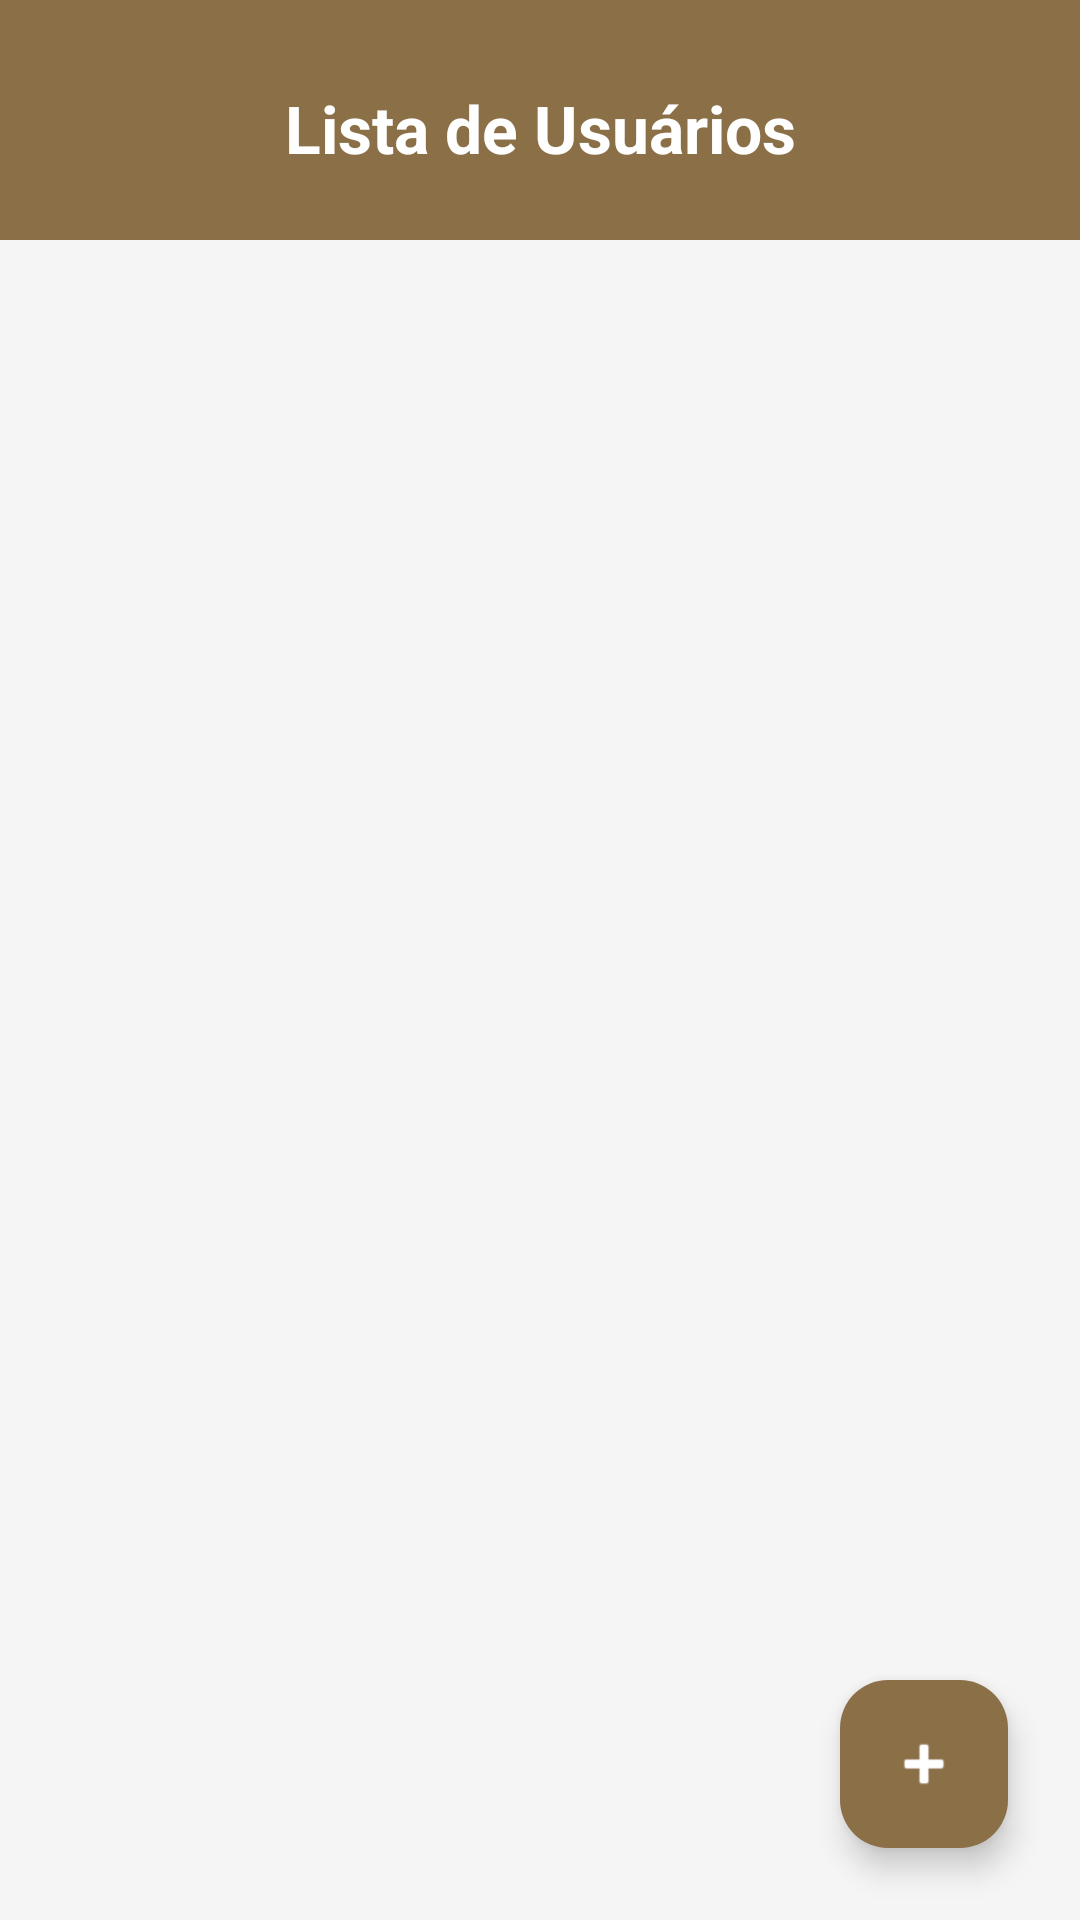

Locate icon controls on the screen. Image size 1080×1920, boxes as rect(x1, y1, x2, y2).
Adicionar Usuário: rect(840, 1680, 1008, 1848)
